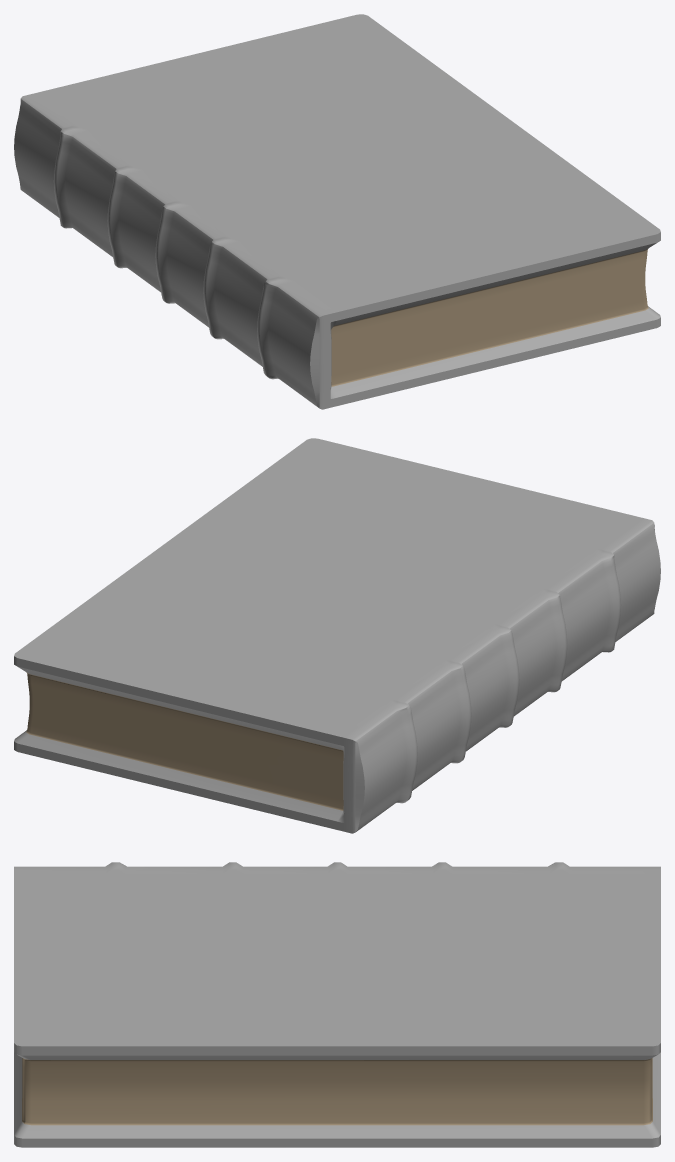
File: Book_1.fbx
3 renders of one model, top to bottom at view 1: azimuth 30°, elevation 25°; view 2: azimuth 150°, elevation 25°; view 3: azimuth 270°, elevation 25°, orthographic. The views are drawn at different scales.
Visible parts, largest first — view 1: Book_1; view 2: Book_1; view 3: Book_1.
Boxes of the visible parts, <box> form: Book_1: <box>14,14,660,409</box>; Book_1: <box>14,438,660,833</box>; Book_1: <box>14,862,660,1147</box>.
Size of the model in its own units: 52.76 by 13.7 by 76.75.
